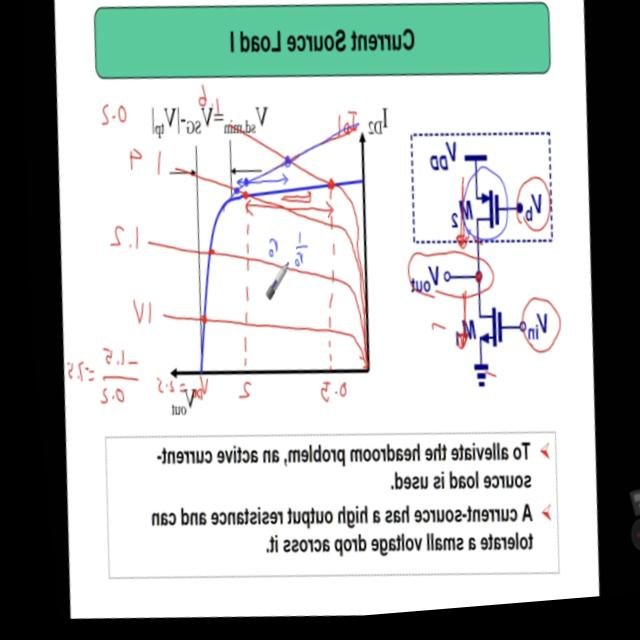panseo: (88, 146, 174, 334), (50, 332, 151, 420), (218, 372, 355, 419)
